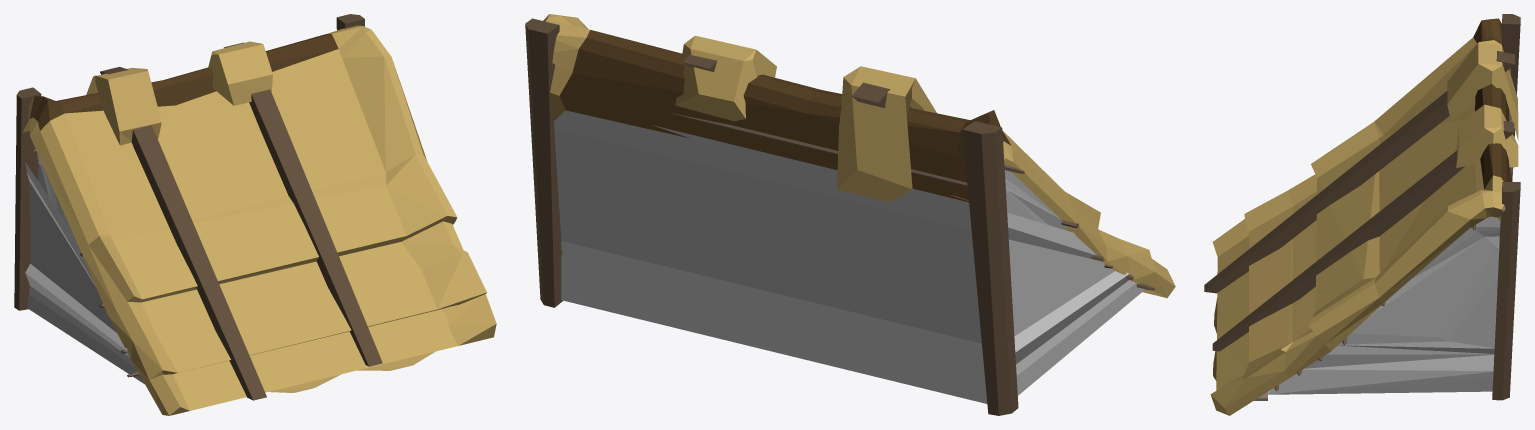
The model's file is EA03_Village_Hut_Roof_Cut_02a.glb.
3 renders of one model, left to right at view 1: azimuth 30°, elevation 25°; view 2: azimuth 150°, elevation 25°; view 3: azimuth 270°, elevation 25°, orthographic. The views are drawn at different scales.
Visible parts, largest first — view 1: EA03_Village_Hut_Roof_Cut_02a; view 2: EA03_Village_Hut_Roof_Cut_02a; view 3: EA03_Village_Hut_Roof_Cut_02a.
Boxes of the visible parts, box(x1,y1,x2,y2) form: EA03_Village_Hut_Roof_Cut_02a: box(14, 14, 496, 415); EA03_Village_Hut_Roof_Cut_02a: box(525, 14, 1175, 415); EA03_Village_Hut_Roof_Cut_02a: box(1204, 14, 1520, 415).
Size of the model in its own units: 8.5 by 5.44 by 6.29.
Materials: 1 (1 with a texture image).
